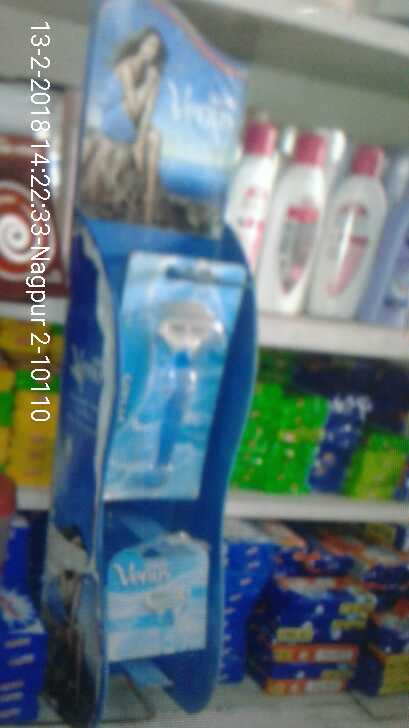venus: (105, 248, 244, 506), (106, 540, 218, 661)
